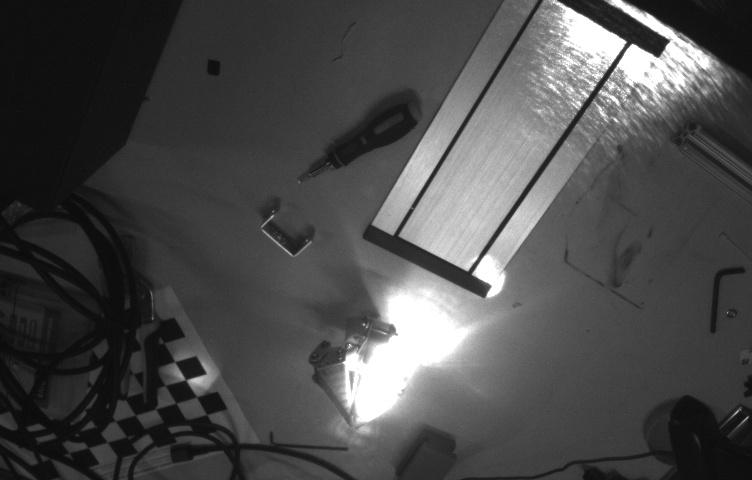Object robotic gripper finger assembly - Material plastic - Color blue - Pdfname: (361, 357, 413, 418)
